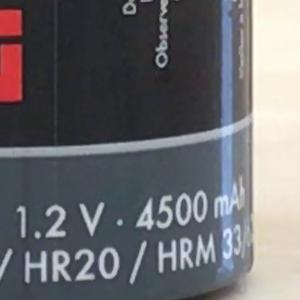HR20: (16, 238, 123, 292)
